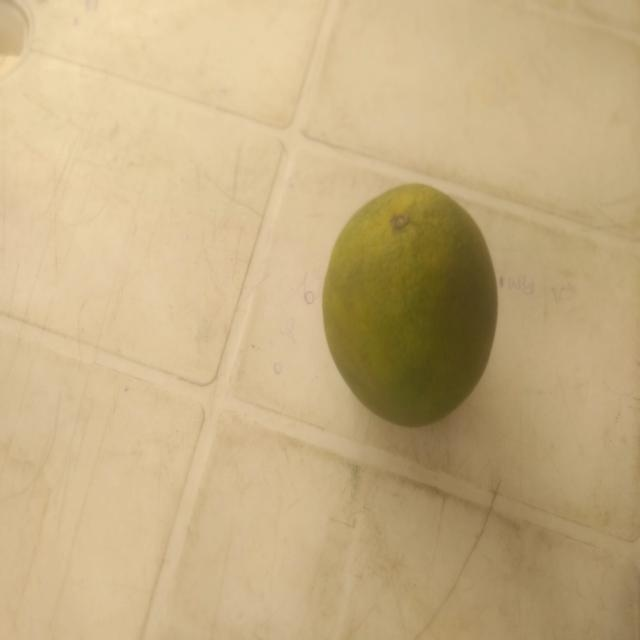agrume: (311, 168, 517, 500)
